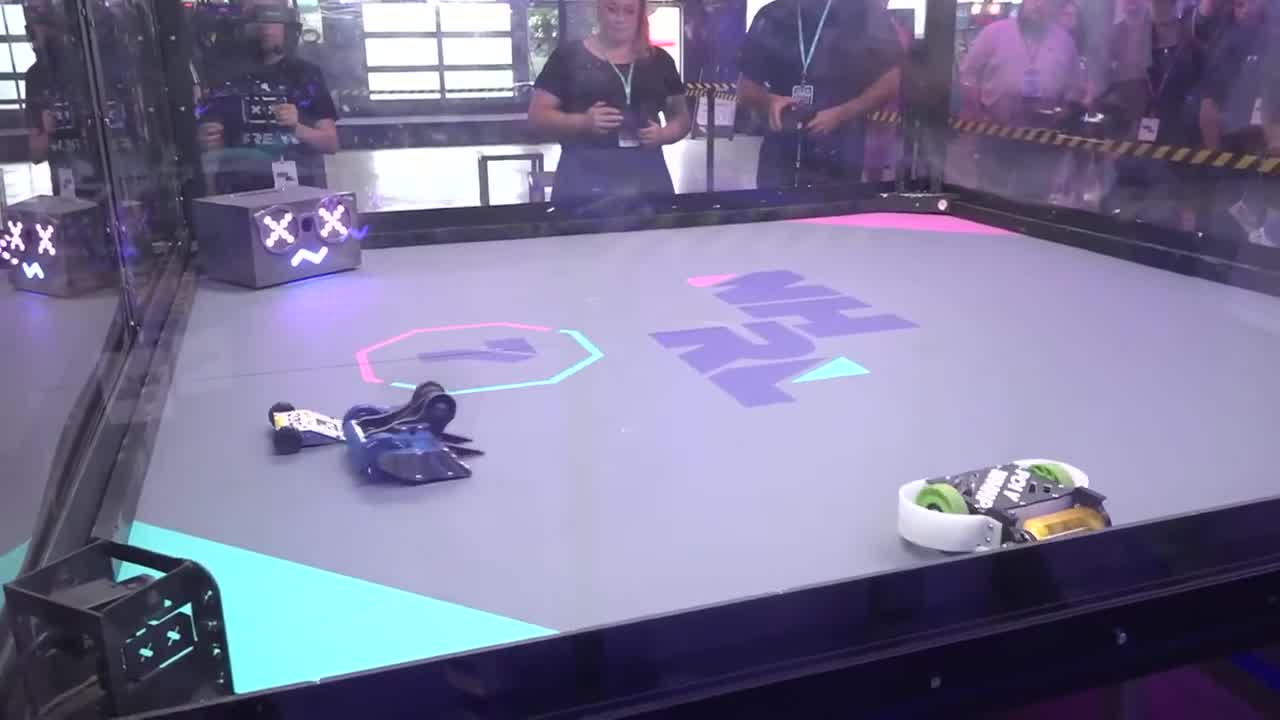combatbot: (905, 462, 1116, 545), (339, 379, 485, 490)
housebot: (192, 188, 363, 288), (4, 195, 111, 300)
minibot: (264, 400, 344, 455)
